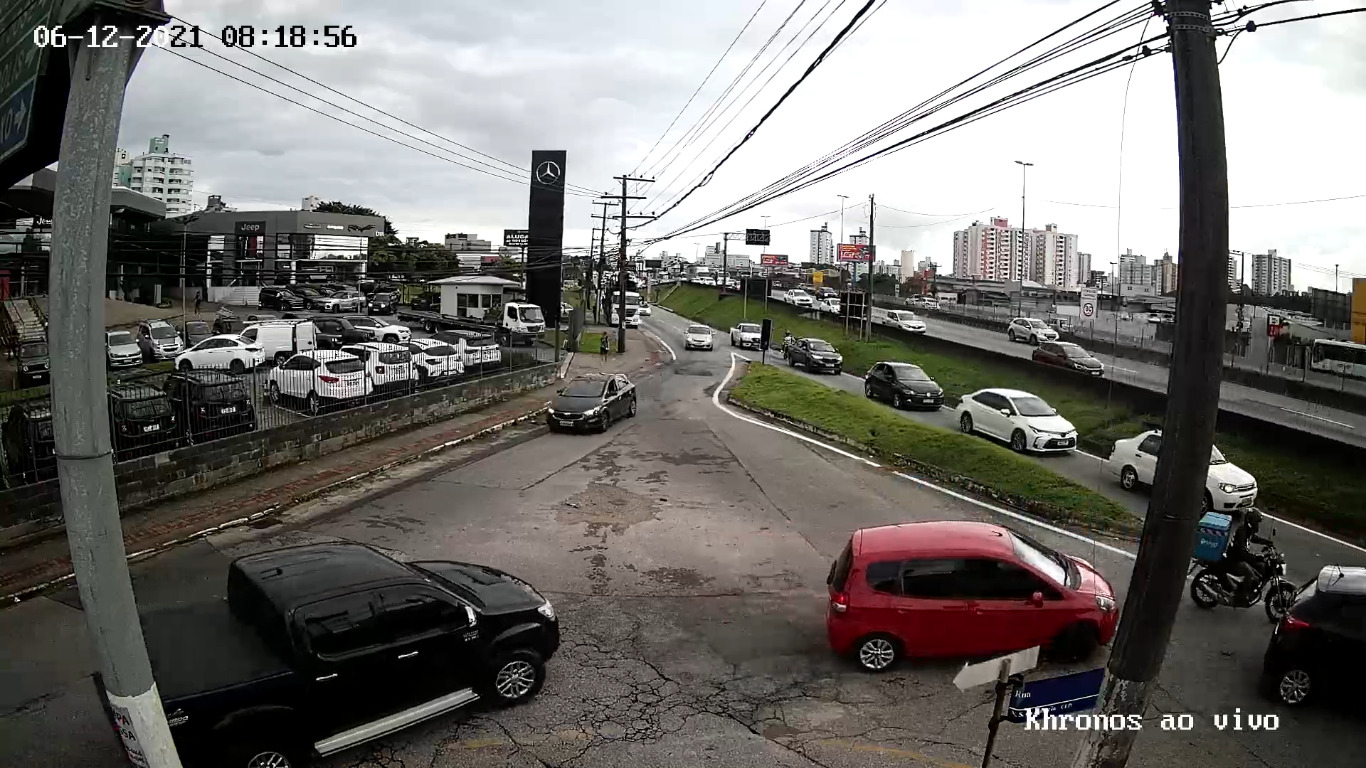car: (98, 542, 560, 768), (825, 521, 1118, 673), (547, 372, 638, 434)
motorcycle: (1188, 507, 1304, 623)
